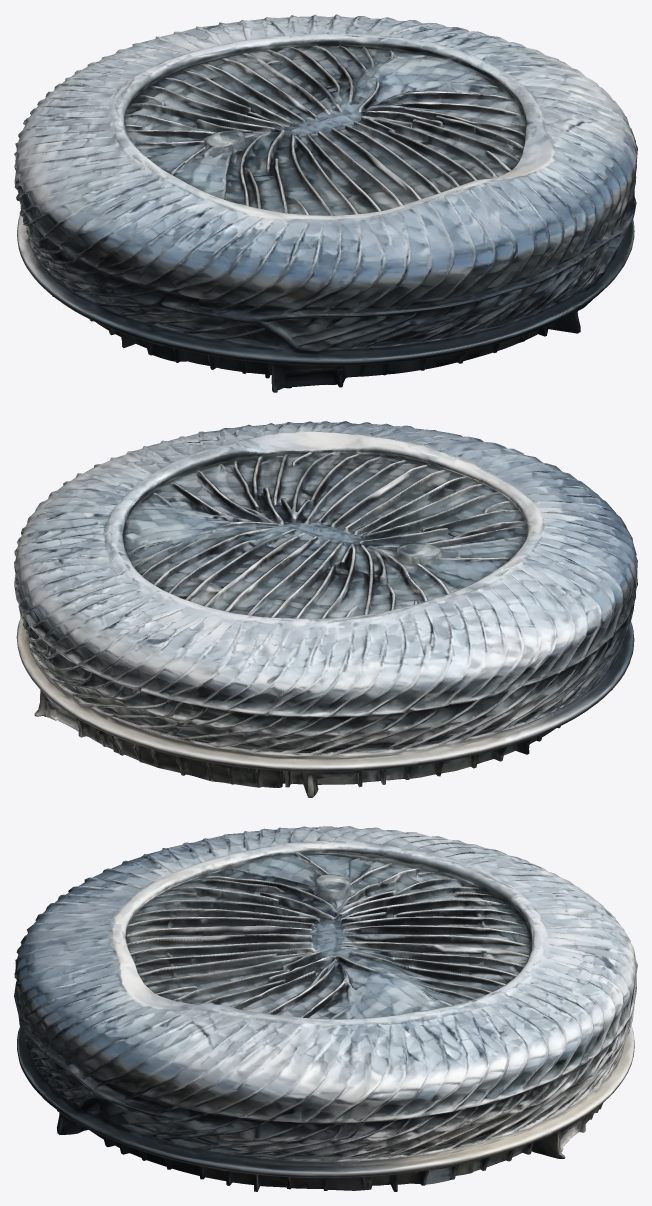
Rendered from stadion_par.glb.
3 renders of one model, top to bottom at view 1: azimuth 30°, elevation 25°; view 2: azimuth 150°, elevation 25°; view 3: azimuth 270°, elevation 25°, orthographic.
Parts seen in each view (by area): view 1: tripo_node_4de3aabe-d1f1-4876-bc14-1e69957645fb; view 2: tripo_node_4de3aabe-d1f1-4876-bc14-1e69957645fb; view 3: tripo_node_4de3aabe-d1f1-4876-bc14-1e69957645fb.
Boxes of the visible parts, <box> form: tripo_node_4de3aabe-d1f1-4876-bc14-1e69957645fb: <box>14,14,637,392</box>; tripo_node_4de3aabe-d1f1-4876-bc14-1e69957645fb: <box>14,421,637,797</box>; tripo_node_4de3aabe-d1f1-4876-bc14-1e69957645fb: <box>14,826,637,1191</box>.
Size of the model in its own units: 1 by 0.2595 by 0.999.
Materials: 1 (1 with a texture image).
